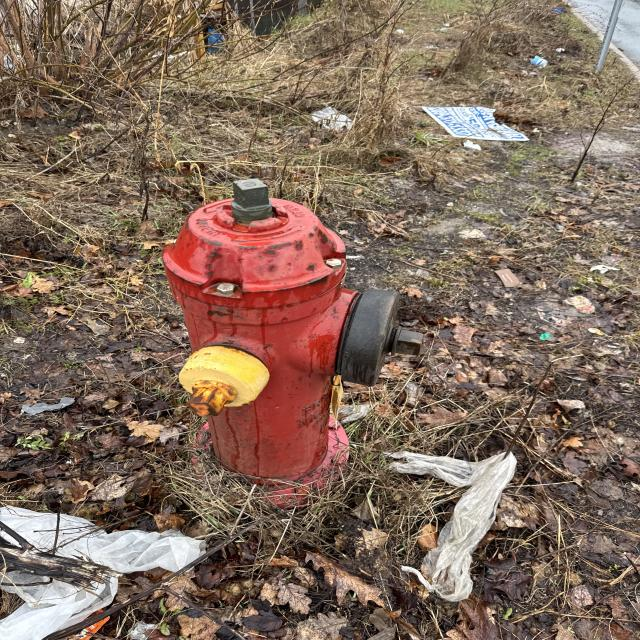Fire hydrant: (159, 178, 425, 512)
